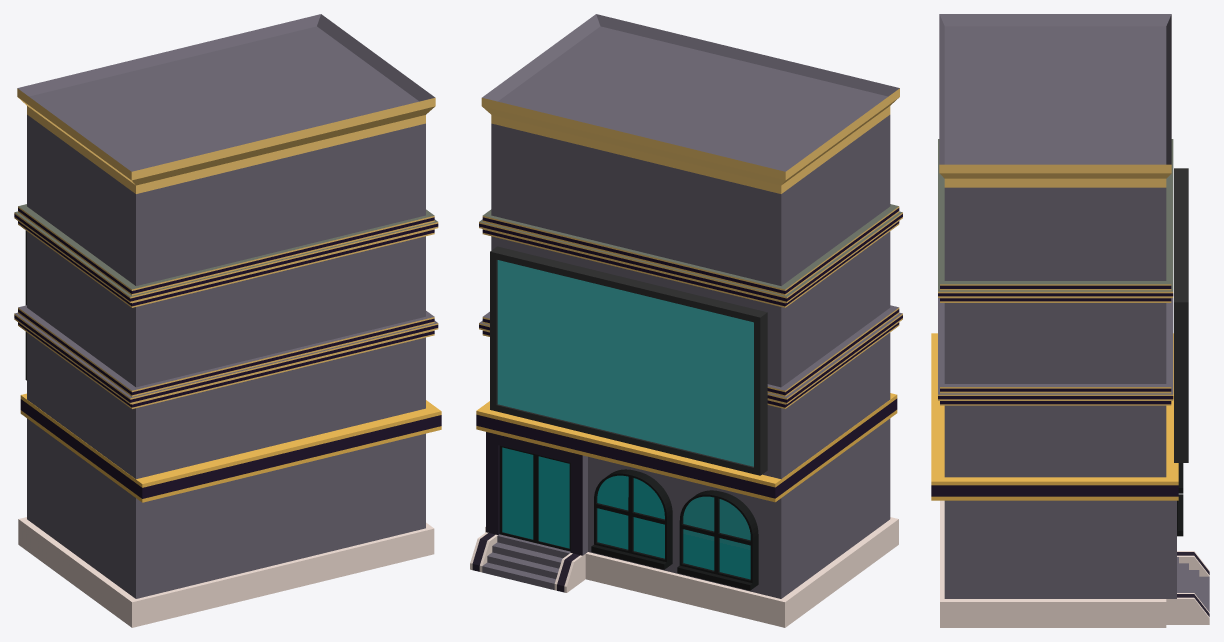
File: Himik_Street_Prop_Building_1.fbx
3 views of the same model, side by side, from view 1: azimuth 30°, elevation 25°; view 2: azimuth 150°, elevation 25°; view 3: azimuth 270°, elevation 25° (orthographic).
Parts seen in each view (by area): view 1: PropBulding3_Body; view 2: PropBulding3_Body, PropBuilding3_Billboard, PropBulding3_Window_2, PropBulding3_Window, PropBulding3_Door; view 3: PropBulding3_Body, PropBuilding3_Billboard.
Boxes of the visible parts, x1,y1,x2,y2 form: PropBulding3_Body: [14, 14, 441, 627]; PropBulding3_Body: [470, 14, 902, 627]; PropBuilding3_Billboard: [490, 246, 767, 475]; PropBulding3_Window_2: [677, 490, 758, 590]; PropBulding3_Window: [591, 469, 672, 569]; PropBulding3_Door: [499, 445, 570, 551]; PropBulding3_Body: [931, 14, 1209, 627]; PropBuilding3_Billboard: [1174, 168, 1188, 462].
Size of the model in its own units: 2054 by 1582 by 2909.
Materials: 5 (5 with a texture image).
